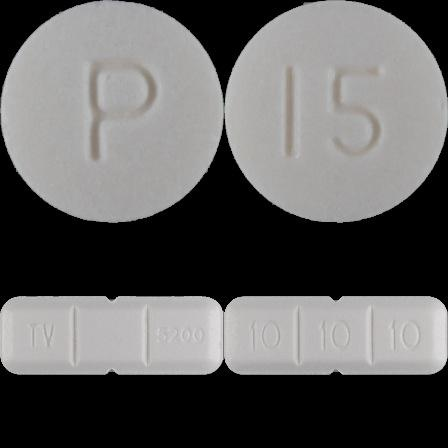63629-3330: (0, 0, 224, 224)
